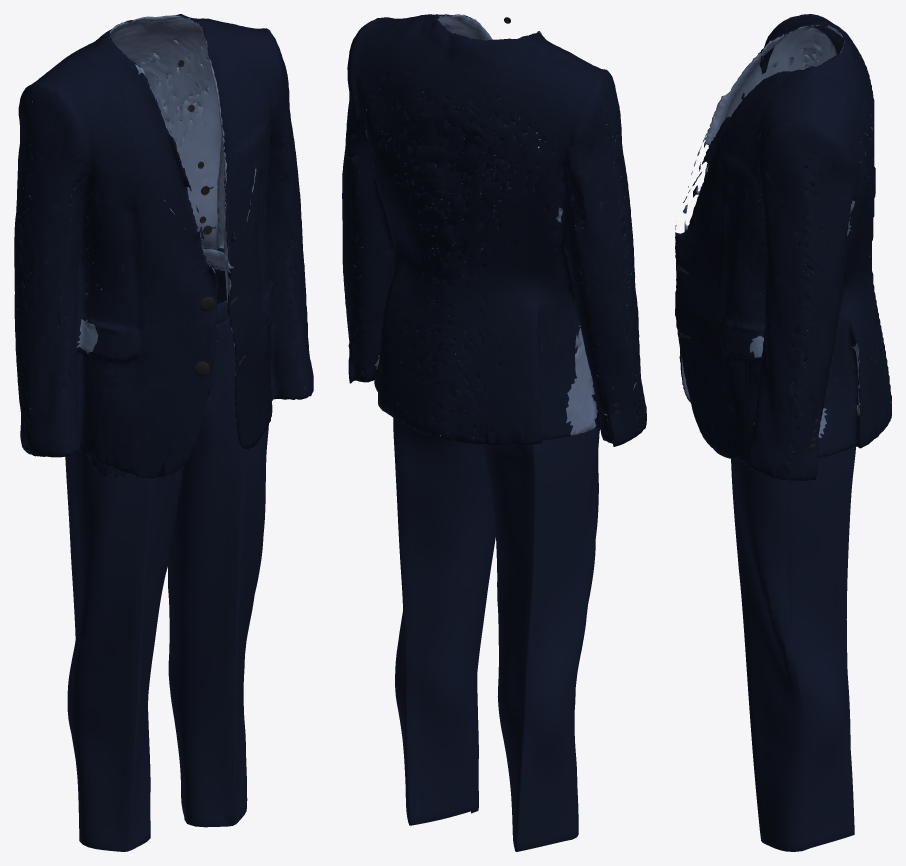
File: MW_Tailleur_suit_v5_REBUILD_try2_no_shirt_waistcoat.glb
3 views of the same model, side by side, from view 1: azimuth 30°, elevation 25°; view 2: azimuth 150°, elevation 25°; view 3: azimuth 270°, elevation 25° (orthographic). The views are drawn at different scales.
Visible parts, largest first — view 1: Jacket, Trousers, Trim; view 2: Jacket, Trousers; view 3: Jacket, Trousers.
Boxes of the visible parts, x1=… form: Jacket: x1=14, y1=14, x2=313, y2=478; Trousers: x1=65, y1=268, x2=268, y2=851; Trim: x1=178, y1=60, x2=214, y2=376; Jacket: x1=342, y1=14, x2=646, y2=446; Trousers: x1=393, y1=331, x2=599, y2=851; Jacket: x1=675, y1=14, x2=891, y2=480; Trousers: x1=731, y1=446, x2=855, y2=851.
Bounding box in the file's own units: 0.5417 × 1.45 × 0.3692.
Materials: 5 (1 with a texture image).
